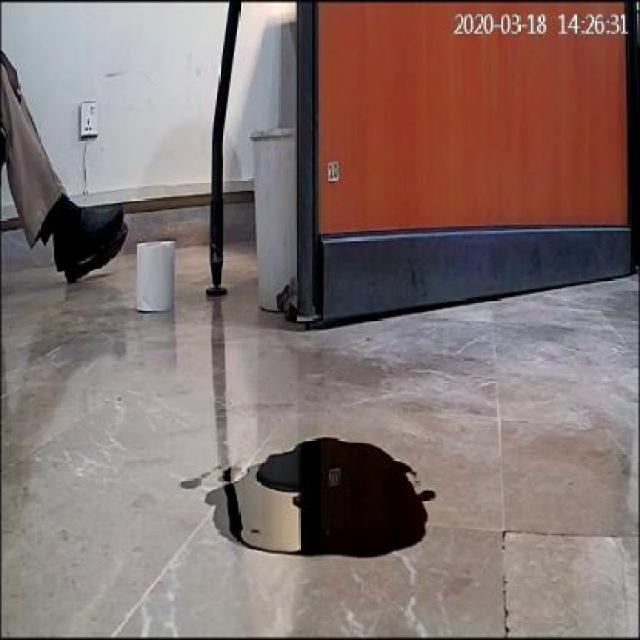spill: (200, 432, 434, 560)
